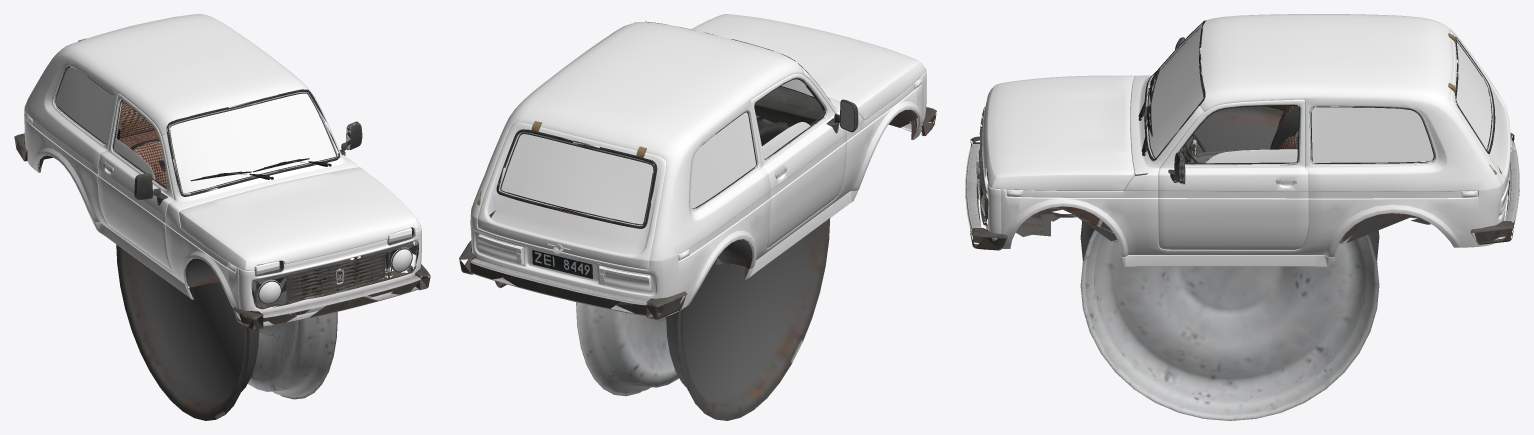
The model's file is gecko.glb.
3 views of the same model, side by side, from view 1: azimuth 30°, elevation 25°; view 2: azimuth 150°, elevation 25°; view 3: azimuth 270°, elevation 25° (orthographic). The views are drawn at different scales.
Visible parts, largest first — view 1: paint:0, rim:5, screen:3, trim:2, glass:3, trim:0, trim:1, trim:5, amber:2, head_r:3; view 2: paint:0, rim:5, glass:3, trim:2, trim:0, trim:1, tail:2, trim:5; view 3: paint:0, rim:5, glass:3, trim:2, screen:3, trim:0, trim:5, trim:1.
Part boxes in pixels (left/top/right/bottom): paint:0: left=24, top=14, right=421, bottom=320; rim:5: left=116, top=160, right=337, bottom=420; screen:3: left=154, top=93, right=335, bottom=193; trim:2: left=14, top=38, right=430, bottom=330; glass:3: left=56, top=67, right=154, bottom=179; trim:0: left=54, top=66, right=340, bottom=196; trim:1: left=117, top=102, right=336, bottom=196; trim:5: left=39, top=155, right=413, bottom=308; amber:2: left=26, top=114, right=412, bottom=274; head_r:3: left=259, top=281, right=280, bottom=303; paint:0: left=470, top=14, right=926, bottom=316; rim:5: left=576, top=122, right=830, bottom=420; glass:3: left=501, top=112, right=810, bottom=224; trim:2: left=459, top=99, right=936, bottom=319; trim:0: left=476, top=21, right=829, bottom=228; trim:1: left=498, top=87, right=822, bottom=228; tail:2: left=477, top=233, right=651, bottom=292; trim:5: left=495, top=87, right=917, bottom=287; paint:0: left=982, top=14, right=1510, bottom=266; rim:5: left=1080, top=106, right=1379, bottom=420; glass:3: left=1206, top=42, right=1491, bottom=165; trim:2: left=965, top=33, right=1519, bottom=250; screen:3: left=1148, top=27, right=1208, bottom=162; trim:0: left=1144, top=20, right=1501, bottom=174; trim:5: left=1016, top=206, right=1430, bottom=243; trim:1: left=1133, top=79, right=1495, bottom=175.
Bounding box in the file's own units: 1.95 × 2.59 × 3.71.
Materials: 14 (8 with a texture image).
